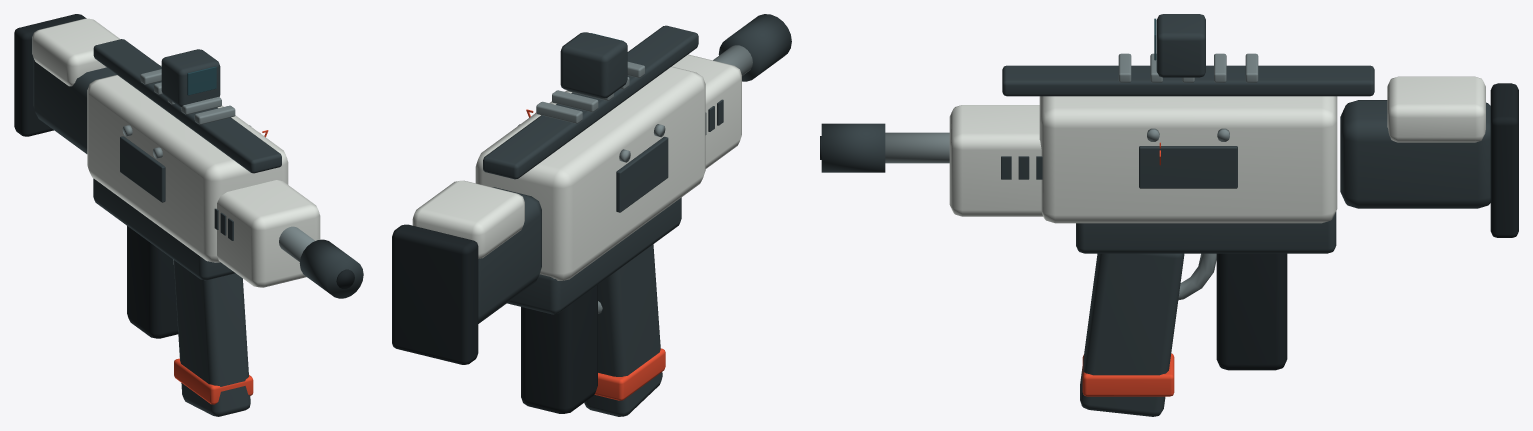
Rendered from k27_carbine_standard.glb.
3 views of the same model, side by side, from view 1: azimuth 30°, elevation 25°; view 2: azimuth 150°, elevation 25°; view 3: azimuth 270°, elevation 25° (orthographic). The views are drawn at different scales.
Parts seen in each view (by area): view 1: k27_carbine_standard; view 2: k27_carbine_standard; view 3: k27_carbine_standard.
Boxes of the visible parts, x1,y1,x2,y2 form: k27_carbine_standard: (14,14,363,416); k27_carbine_standard: (392,14,791,416); k27_carbine_standard: (820,14,1518,416).
Size of the model in its own units: 0.2207 by 0.6045 by 0.9915.
